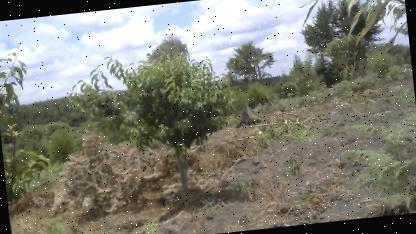tree: (62, 36, 247, 208)
